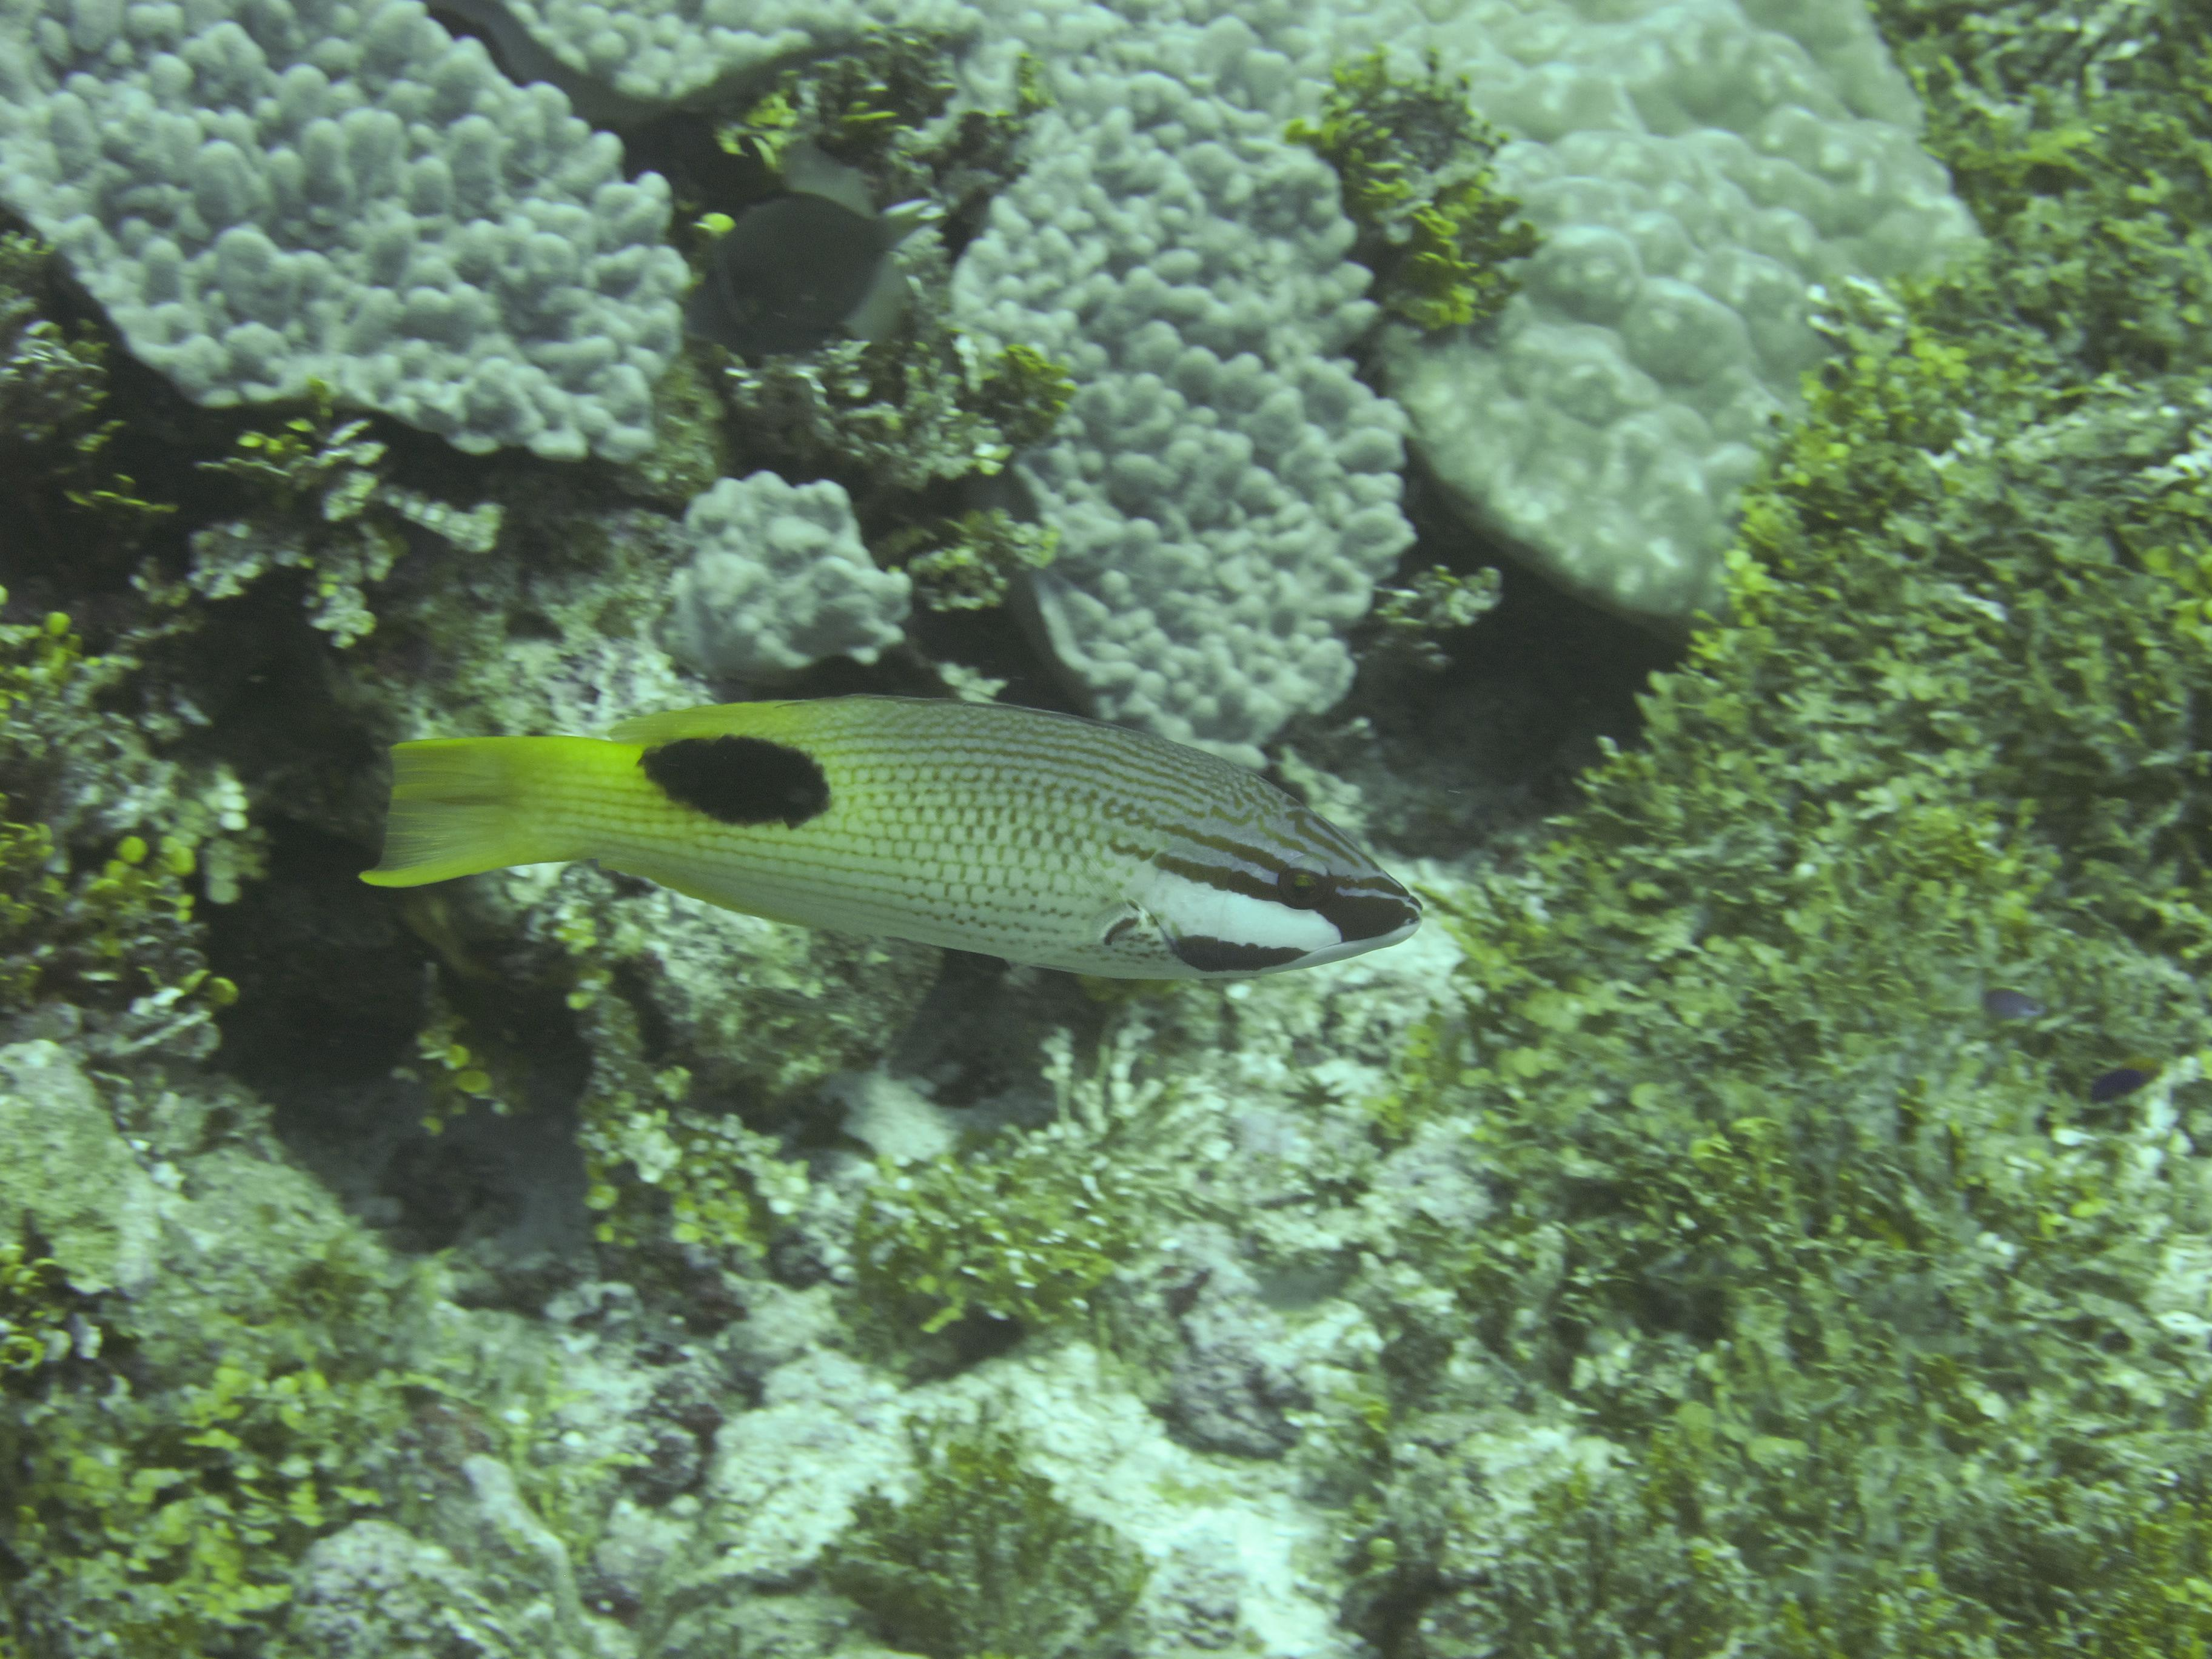Fish: (322, 647, 1446, 1000)
